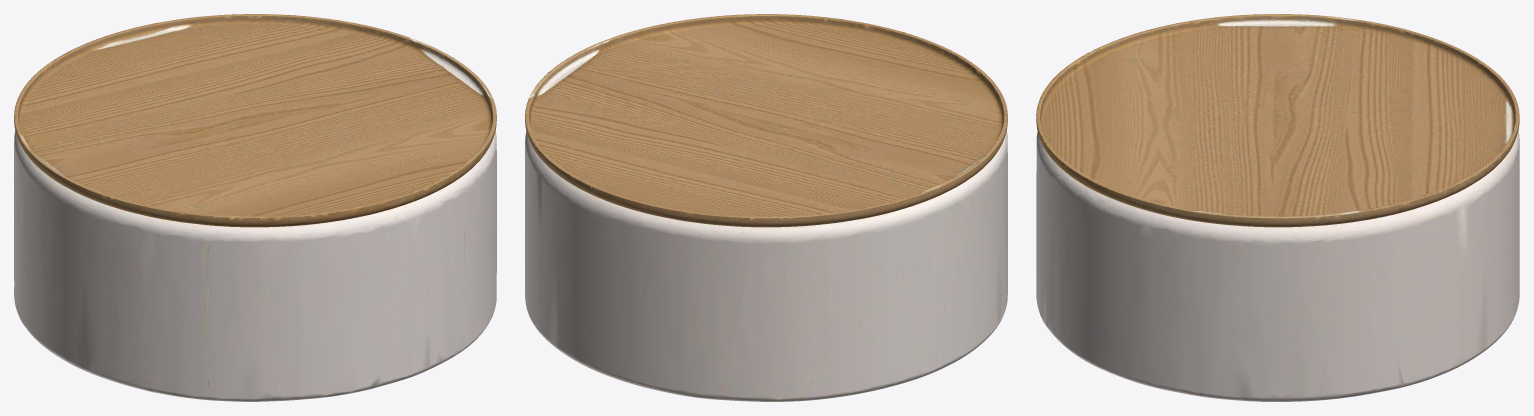
File: caravanafurniture-com-products-lift-top-round-coffee-table-0d9be7.glb
3 renders of one model, left to right at view 1: azimuth 30°, elevation 25°; view 2: azimuth 150°, elevation 25°; view 3: azimuth 270°, elevation 25°, orthographic.
Visible parts, largest first — view 1: Mesh_0; view 2: Mesh_0; view 3: Mesh_0.
Part boxes in pixels (<box>): Mesh_0: <box>14,14,496,401</box>; Mesh_0: <box>525,14,1007,401</box>; Mesh_0: <box>1036,14,1519,401</box>.
Bounding box in the file's own units: 1.9 × 0.8122 × 1.9.
Materials: 1 (1 with a texture image).
